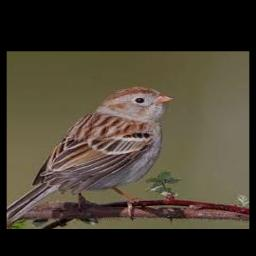Sparrow: (7, 86, 174, 225)
